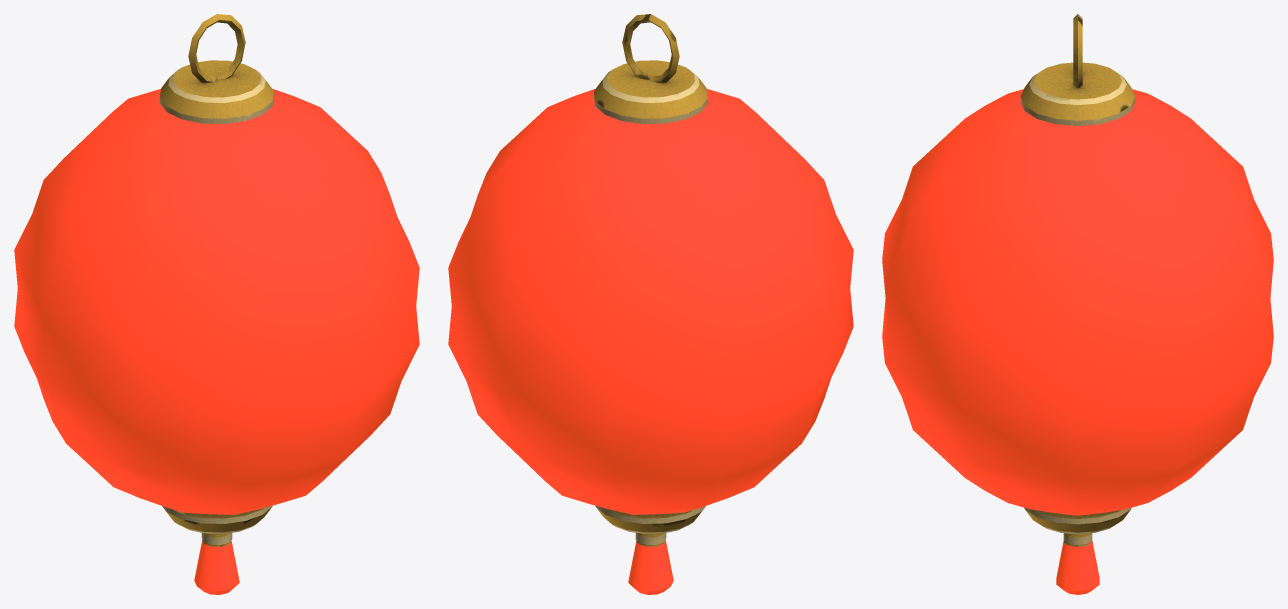
The picture shows the model from 3 angles, left to right: view 1: azimuth 30°, elevation 25°; view 2: azimuth 150°, elevation 25°; view 3: azimuth 270°, elevation 25°; orthographic projection.
Visible parts, largest first — view 1: glow_Lantern_red_luminous_paper, Glossy_gold_lacquer, Fine_gold_light_trim; view 2: glow_Lantern_red_luminous_paper, Glossy_gold_lacquer, Fine_gold_light_trim; view 3: glow_Lantern_red_luminous_paper, Glossy_gold_lacquer, Fine_gold_light_trim.
Boxes of the visible parts, <box> form: glow_Lantern_red_luminous_paper: <box>14,89,419,594</box>; Glossy_gold_lacquer: <box>159,14,273,546</box>; Fine_gold_light_trim: <box>159,68,274,545</box>; glow_Lantern_red_luminous_paper: <box>448,89,853,594</box>; Glossy_gold_lacquer: <box>594,14,708,546</box>; Fine_gold_light_trim: <box>593,68,708,545</box>; glow_Lantern_red_luminous_paper: <box>882,89,1273,594</box>; Glossy_gold_lacquer: <box>1020,14,1135,546</box>; Fine_gold_light_trim: <box>1020,74,1135,545</box>.
Bounding box in the file's own units: 0.6145 × 0.956 × 0.5928.
4 materials, 2 textured.
